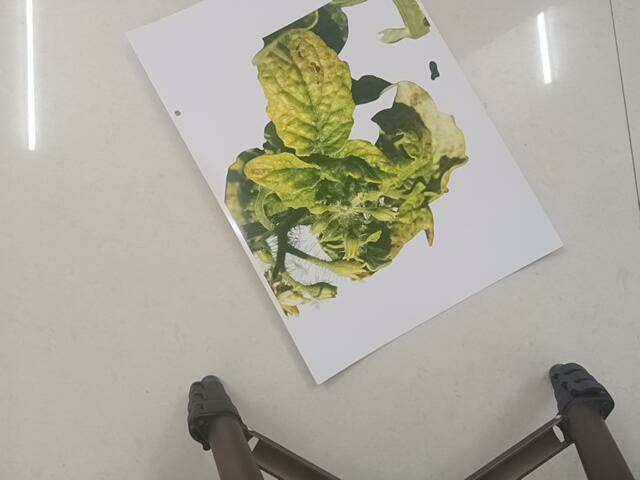Tomamto_Leaf_curl_virus: (229, 6, 471, 294)
